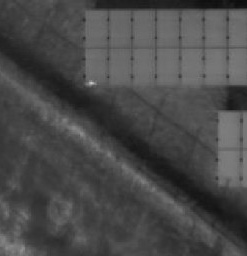solar: (82, 8, 111, 49), (105, 8, 134, 49), (129, 8, 158, 49), (153, 8, 182, 49), (178, 8, 207, 49), (202, 8, 231, 49), (202, 44, 231, 85), (178, 45, 207, 86), (153, 45, 182, 86), (130, 45, 159, 86), (106, 45, 135, 86), (82, 45, 111, 86), (214, 109, 243, 150), (214, 145, 243, 186)
